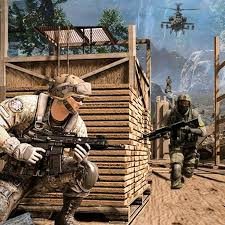gun: (8, 127, 127, 178), (138, 116, 199, 141)
